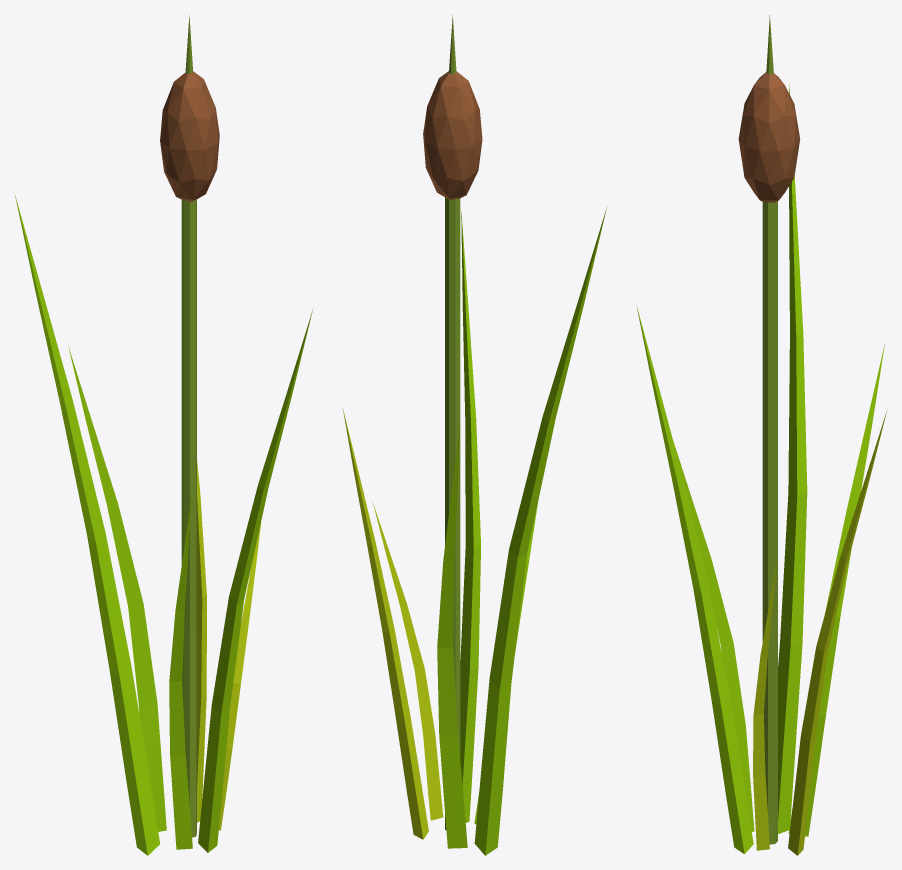
The model's file is reed.glb.
3 renders of one model, left to right at view 1: azimuth 30°, elevation 25°; view 2: azimuth 150°, elevation 25°; view 3: azimuth 270°, elevation 25°, orthographic.
Visible parts, largest first — view 1: Icosphere; view 2: Icosphere; view 3: Icosphere.
Part boxes in pixels (x1,y1,x2,y2): Icosphere: (15,15,313,855); Icosphere: (342,14,607,855); Icosphere: (636,15,887,855).
Size of the model in its own units: 0.3681 by 1.2 by 0.3273.
